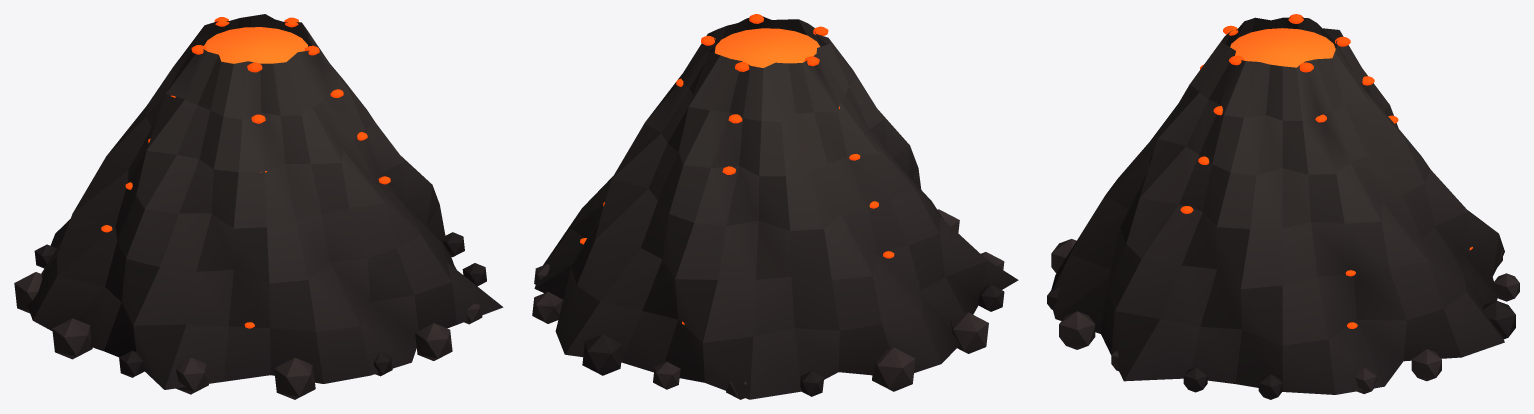
The model's file is volcano.glb.
3 views of the same model, side by side, from view 1: azimuth 30°, elevation 25°; view 2: azimuth 150°, elevation 25°; view 3: azimuth 270°, elevation 25° (orthographic).
Parts seen in each view (by area): view 1: volcano, lava, volcano_glow; view 2: volcano, lava, volcano_glow; view 3: volcano, lava, volcano_glow.
Boxes of the visible parts, x1=… form: volcano: x1=14, y1=14, x2=503, y2=399; lava: x1=204, y1=27, x2=307, y2=63; volcano_glow: x1=101, y1=17, x2=390, y2=328; volcano: x1=532, y1=16, x2=1018, y2=399; lava: x1=715, y1=28, x2=819, y2=67; volcano_glow: x1=580, y1=14, x2=894, y2=324; volcano: x1=1047, y1=17, x2=1519, y2=399; lava: x1=1230, y1=28, x2=1335, y2=67; volcano_glow: x1=1180, y1=14, x2=1472, y2=328.
Size of the model in its own units: 9.39 by 5.91 by 9.22.
